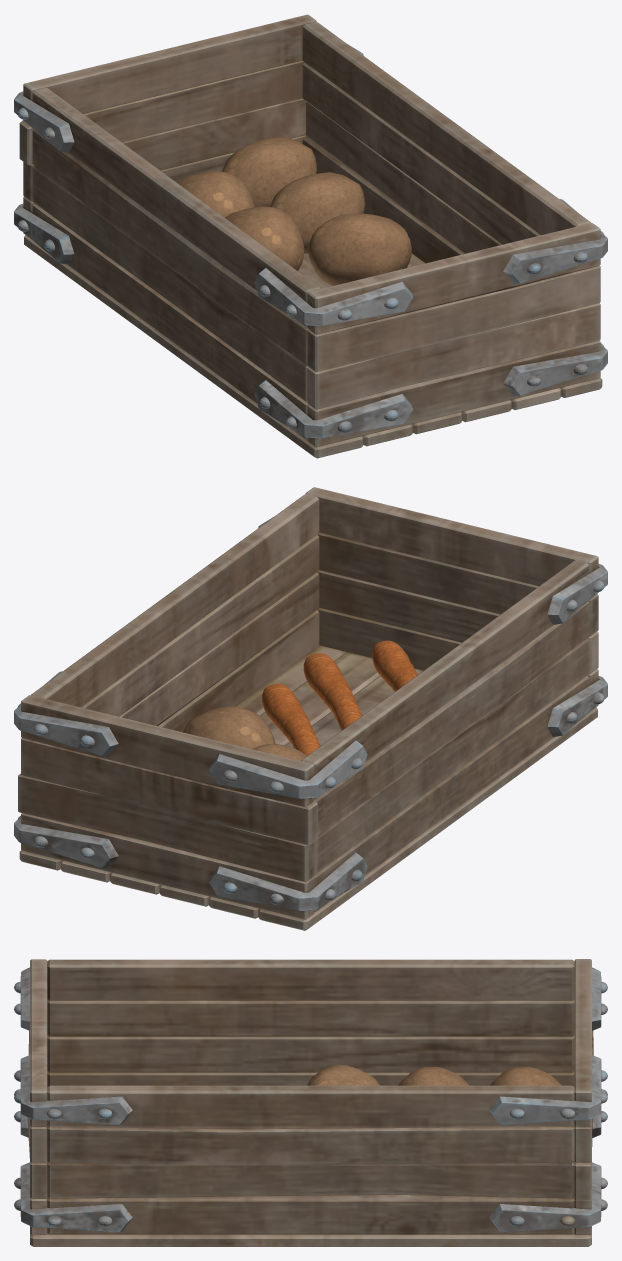
File: SM_market_box_03.fbx
3 renders of one model, top to bottom at view 1: azimuth 30°, elevation 25°; view 2: azimuth 150°, elevation 25°; view 3: azimuth 270°, elevation 25°, orthographic. The views are drawn at different scales.
Parts seen in each view (by area): view 1: SM_market_box_03_LOD0; view 2: SM_market_box_03_LOD0; view 3: SM_market_box_03_LOD0.
Part boxes in pixels (<box>): SM_market_box_03_LOD0: <box>14,14,607,458</box>; SM_market_box_03_LOD0: <box>14,487,607,930</box>; SM_market_box_03_LOD0: <box>14,959,607,1246</box>.
Size of the model in its own units: 60.14 by 102 by 30.45.
2 materials, 2 textured.
